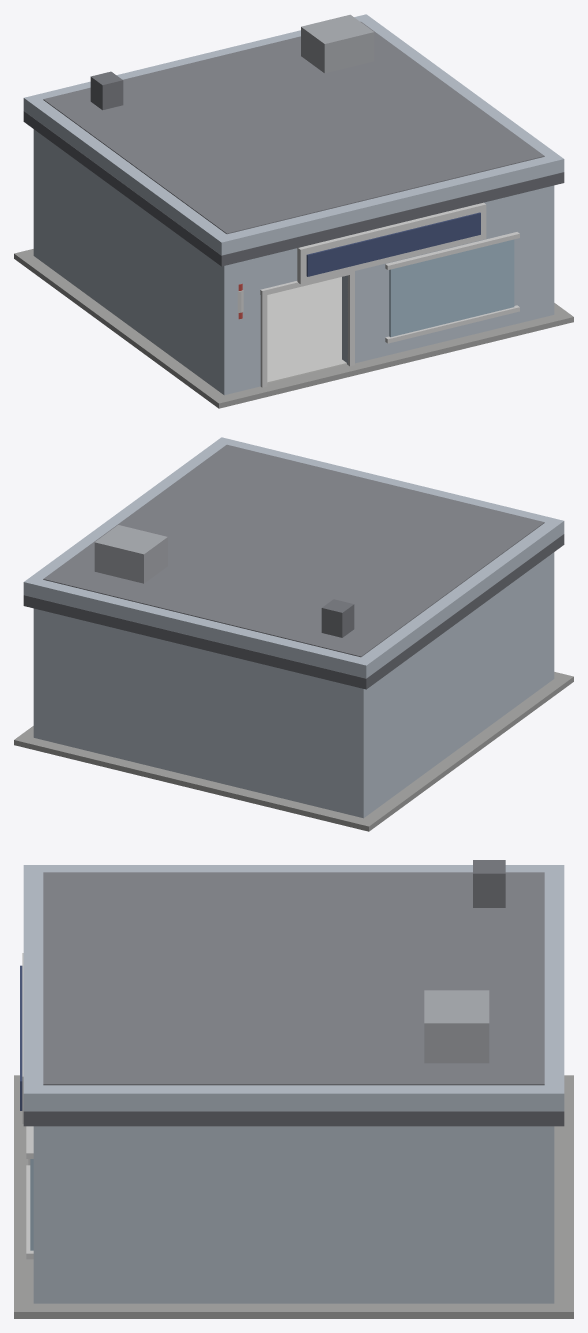
Rendered from Dukkan_Berber.glb.
3 renders of one model, top to bottom at view 1: azimuth 30°, elevation 25°; view 2: azimuth 150°, elevation 25°; view 3: azimuth 270°, elevation 25°, orthographic. The views are drawn at different scales.
Visible parts, largest first — view 1: Dukkan_Berber; view 2: Dukkan_Berber; view 3: Dukkan_Berber.
Part boxes in pixels (x1,y1,x2,y2): Dukkan_Berber: (14,14,573,408); Dukkan_Berber: (14,437,573,831); Dukkan_Berber: (14,860,573,1318).
Bounding box in the file's own units: 8.6 × 4.45 × 8.6.
